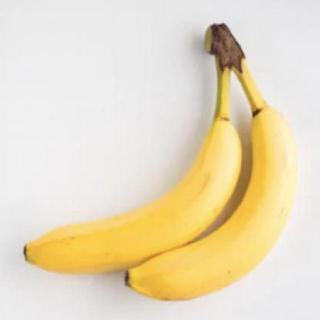banana: (21, 118, 243, 278), (123, 105, 300, 302)
